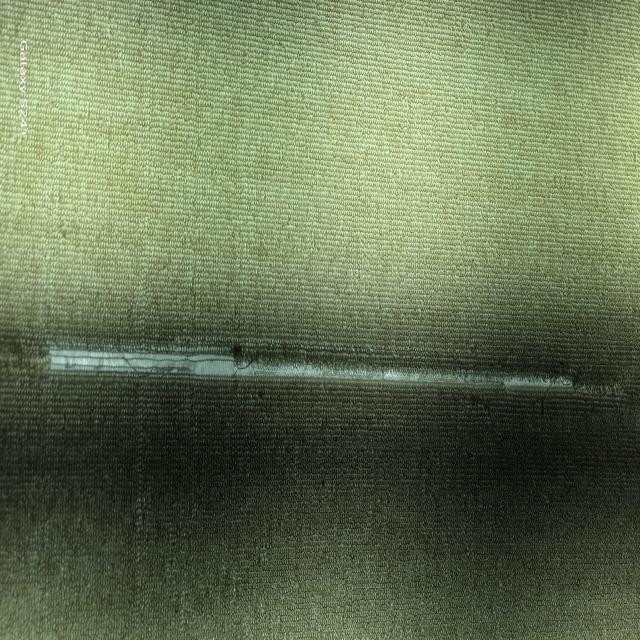Warp_Weft: (50, 340, 624, 400)
